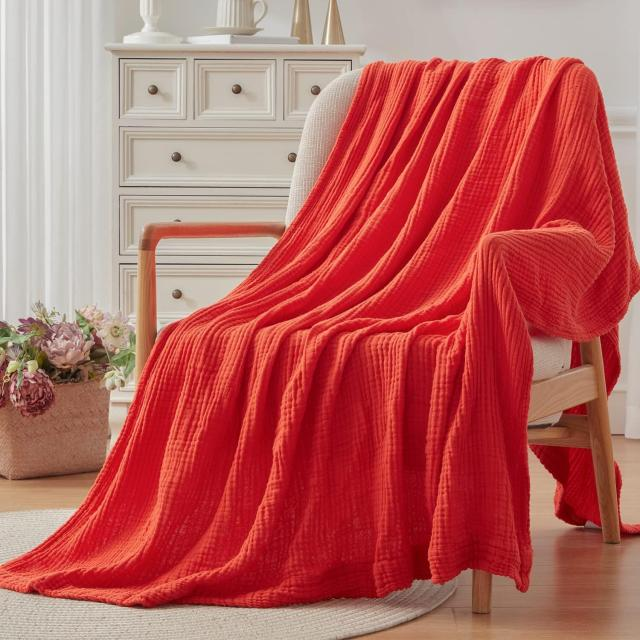blanket: (1, 59, 640, 607)
